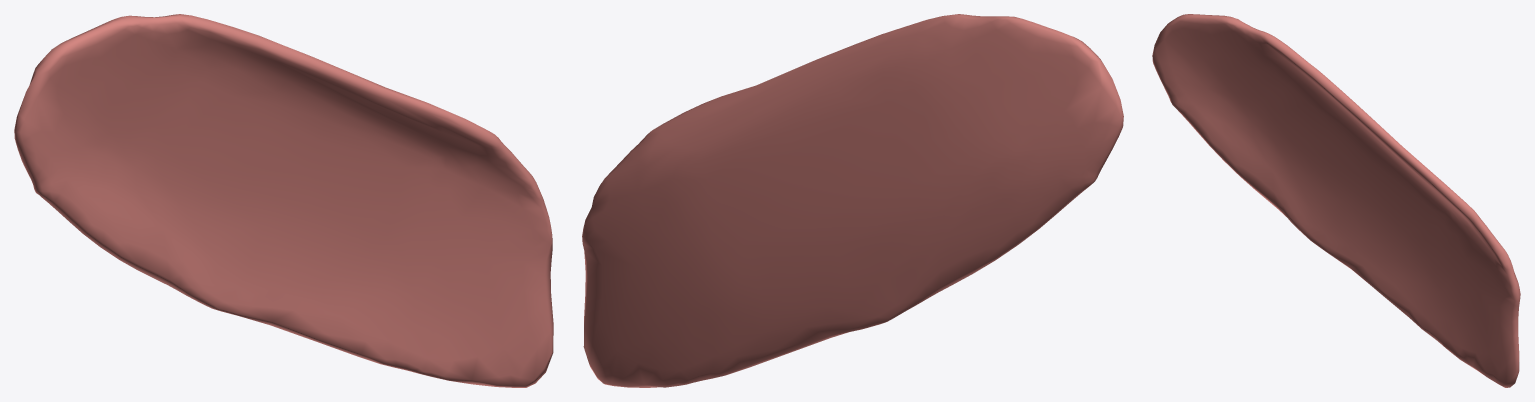
3 renders of one model, left to right at view 1: azimuth 30°, elevation 25°; view 2: azimuth 150°, elevation 25°; view 3: azimuth 330°, elevation 25°, orthographic. The views are drawn at different scales.
Visible parts, largest first — view 1: ZA_c7ea751e4f27f2c9; view 2: ZA_c7ea751e4f27f2c9; view 3: ZA_c7ea751e4f27f2c9.
Part boxes in pixels (x1,y1,x2,y2): ZA_c7ea751e4f27f2c9: (14, 14, 553, 387); ZA_c7ea751e4f27f2c9: (582, 14, 1123, 387); ZA_c7ea751e4f27f2c9: (1152, 14, 1520, 387).
Size of the model in its own units: 0.0188 by 0.0156 by 0.00212.
